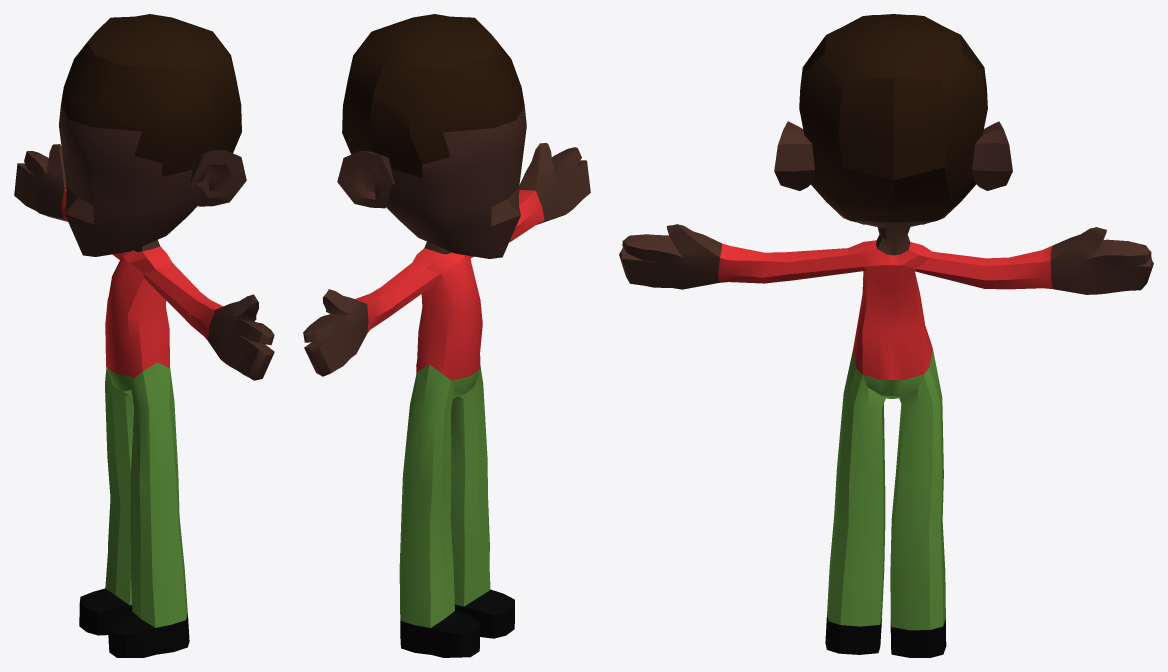
File: Men1 (1).fbx
3 renders of one model, left to right at view 1: azimuth 30°, elevation 25°; view 2: azimuth 150°, elevation 25°; view 3: azimuth 270°, elevation 25°, orthographic. The views are drawn at different scales.
Parts seen in each view (by area): view 1: Body; view 2: Body; view 3: Body.
Boxes of the visible parts, x1,y1,x2,y2 form: Body: [14, 14, 274, 657]; Body: [303, 14, 590, 657]; Body: [619, 14, 1153, 657].
Size of the model in its own units: 391 by 147 by 505.
